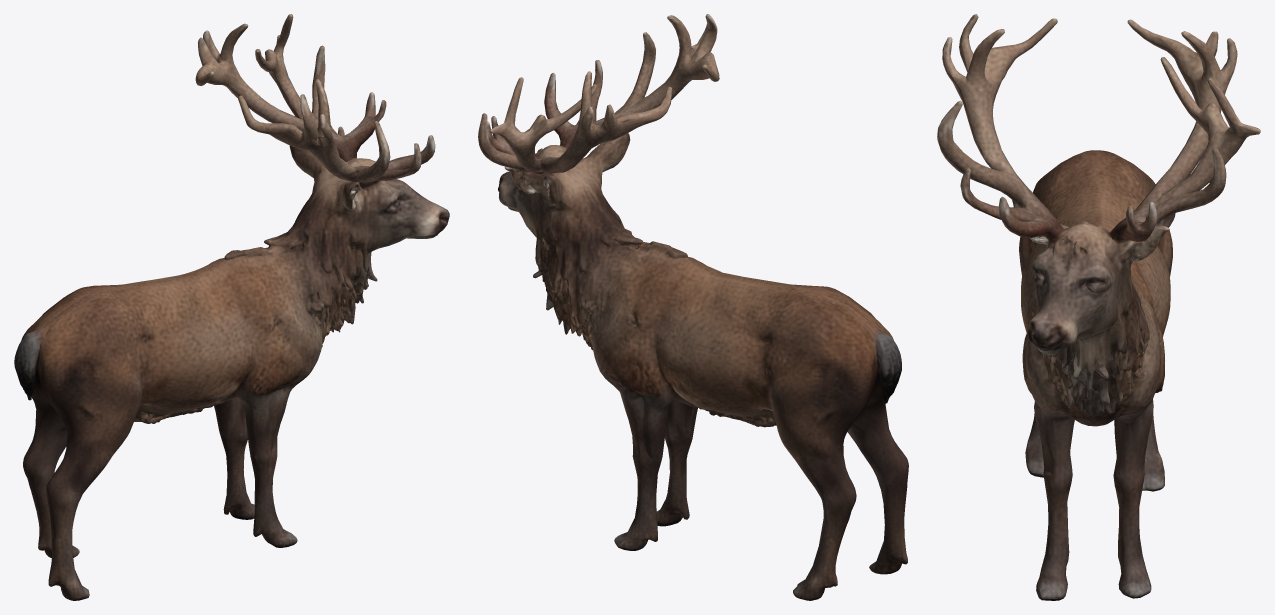
File: red-deer-stag-v21.glb
3 renders of one model, left to right at view 1: azimuth 30°, elevation 25°; view 2: azimuth 150°, elevation 25°; view 3: azimuth 270°, elevation 25°, orthographic. The views are drawn at different scales.
Parts seen in each view (by area): view 1: geometry_0; view 2: geometry_0; view 3: geometry_0.
Boxes of the visible parts, x1,y1,x2,y2 form: geometry_0: (14, 14, 449, 600); geometry_0: (478, 14, 908, 600); geometry_0: (937, 14, 1260, 600).
Size of the model in its own units: 2.5 by 2.77 by 1.42.
Materials: 1 (1 with a texture image).
